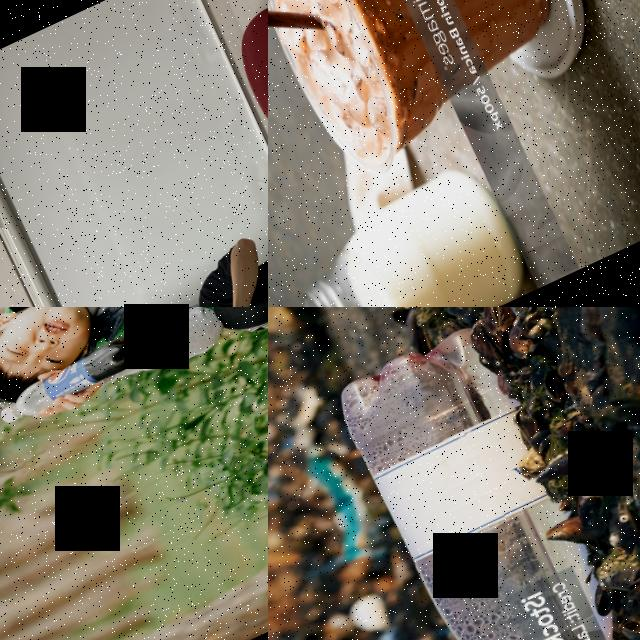bottle: (270, 148, 540, 307), (0, 328, 147, 429)
